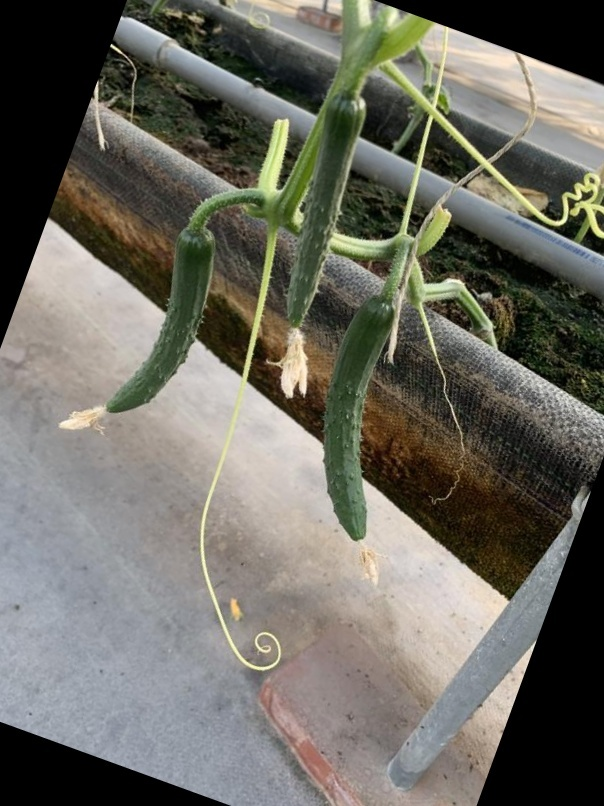growth: (90, 221, 219, 416), (278, 92, 370, 330)
mature: (318, 297, 394, 557)
